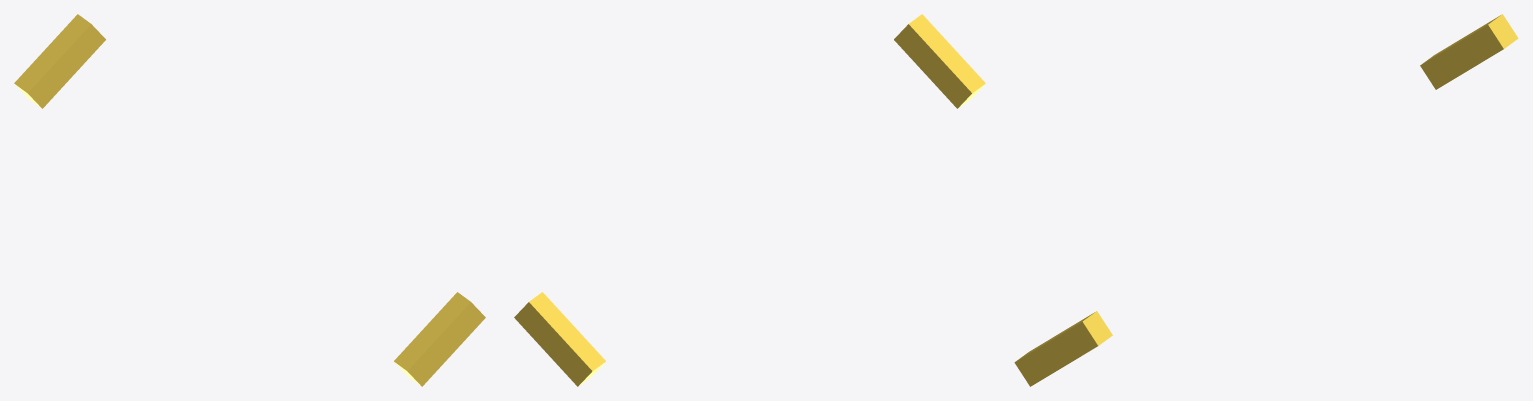
Rendered from 2 green lasers.glb.
The picture shows the model from 3 angles, left to right: view 1: azimuth 30°, elevation 25°; view 2: azimuth 150°, elevation 25°; view 3: azimuth 330°, elevation 25°; orthographic projection. The views are drawn at different scales.
Visible parts, largest first — view 1: 2 green lasers; view 2: 2 green lasers; view 3: 2 green lasers.
Part boxes in pixels (<box>): 2 green lasers: <box>14,14,485,386</box>; 2 green lasers: <box>514,14,985,386</box>; 2 green lasers: <box>1014,14,1518,386</box>.
Bounding box in the file's own units: 0.6223 × 0.5532 × 5.39.
